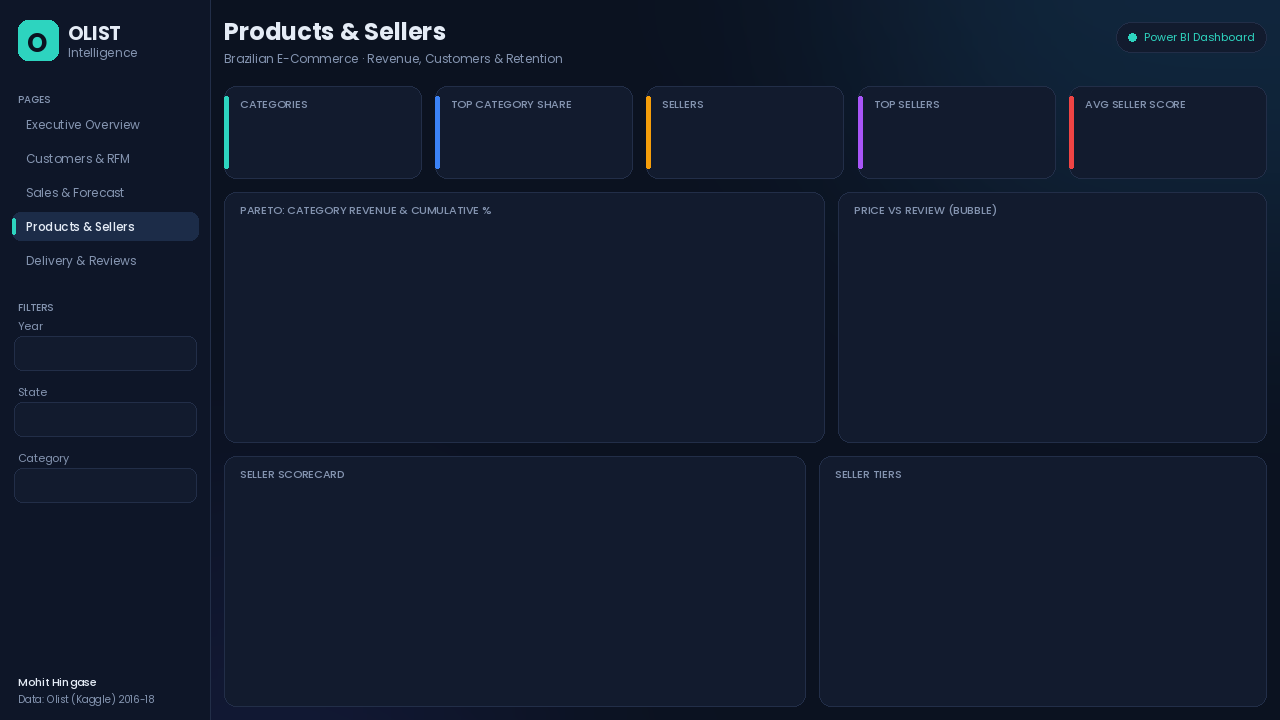

This screenshot's page, from the dashboard's own definition file:
{"tool":"powerbi","page":{"name":"Products & Sellers","canvas":[1280,720],"ordinal":3},"visuals":[{"type":"card","fields":{"Values":["agg_category.Category Count"]},"box":[234,112,179,62],"z":1000},{"type":"card","fields":{"Values":["agg_category.Top Category Share %"]},"box":[445,112,179,62],"z":1000},{"type":"card","fields":{"Values":["agg_seller_scorecard.Seller Count"]},"box":[656,112,179,62],"z":1000},{"type":"card","fields":{"Values":["agg_seller_scorecard.Top Sellers"]},"box":[868,112,179,62],"z":1000},{"type":"card","fields":{"Values":["agg_seller_scorecard.Avg Seller Score"]},"box":[1079,112,179,62],"z":1000},{"type":"lineClusteredColumnComboChart","fields":{"Category":["agg_category.category"],"Y":["agg_category.Category Revenue"],"Y2":["agg_category.Cumulative Share %"]},"box":[230,222,588,214],"z":1000},{"type":"scatterChart","fields":{"Category":["agg_category.category"],"Size":["agg_category.Category Revenue"],"X":["agg_category.Avg Category Price"],"Y":["agg_category.Avg Category Review"]},"box":[844,222,416,214],"z":1000},{"type":"tableEx","fields":{"Values":["agg_seller_scorecard.seller_id","agg_seller_scorecard.state","agg_seller_scorecard.tier","agg_seller_scorecard.score","agg_seller_scorecard.revenue","agg_seller_scorecard.avg_review","agg_seller_scorecard.late_pct"]},"box":[230,486,569,214],"z":1000},{"type":"donutChart","fields":{"Category":["agg_seller_scorecard.tier"],"Y":["agg_seller_scorecard.Seller Count"]},"box":[825,486,435,214],"z":1000},{"type":"slicer","fields":{"Values":["dim_date.year"]},"box":[14,351,182,40],"z":3000},{"type":"slicer","fields":{"Values":["dim_customer.state"]},"box":[14,417,182,40],"z":3000},{"type":"slicer","fields":{"Values":["dim_product.category"]},"box":[14,483,182,40],"z":3000},{"type":"actionButton","box":[12,110,186,28],"z":4000},{"type":"actionButton","box":[12,144,186,28],"z":4001},{"type":"actionButton","box":[12,178,186,28],"z":4002},{"type":"actionButton","box":[12,246,186,28],"z":4004}]}

Visuals, with their boxes on the page's 1280x720 design canvas (x1, y1, x2, y2). These are canvas units, not pixel positions in the 1280x720 screenshot, which may show the page scaled, cropped or inside an application window:
card - agg_category.Category Count: bbox=[234, 112, 413, 174]
card - agg_category.Top Category Share %: bbox=[445, 112, 624, 174]
card - agg_seller_scorecard.Seller Count: bbox=[656, 112, 835, 174]
card - agg_seller_scorecard.Top Sellers: bbox=[868, 112, 1047, 174]
card - agg_seller_scorecard.Avg Seller Score: bbox=[1079, 112, 1258, 174]
lineClusteredColumnComboChart - agg_category.category x agg_category.Category Revenue: bbox=[230, 222, 818, 436]
scatterChart - agg_category.category x agg_category.Category Revenue: bbox=[844, 222, 1260, 436]
tableEx - agg_seller_scorecard.seller_id x agg_seller_scorecard.state: bbox=[230, 486, 799, 700]
donutChart - agg_seller_scorecard.tier x agg_seller_scorecard.Seller Count: bbox=[825, 486, 1260, 700]
slicer - dim_date.year: bbox=[14, 351, 196, 391]
slicer - dim_customer.state: bbox=[14, 417, 196, 457]
slicer - dim_product.category: bbox=[14, 483, 196, 523]
actionButton: bbox=[12, 110, 198, 138]
actionButton: bbox=[12, 144, 198, 172]
actionButton: bbox=[12, 178, 198, 206]
actionButton: bbox=[12, 246, 198, 274]
